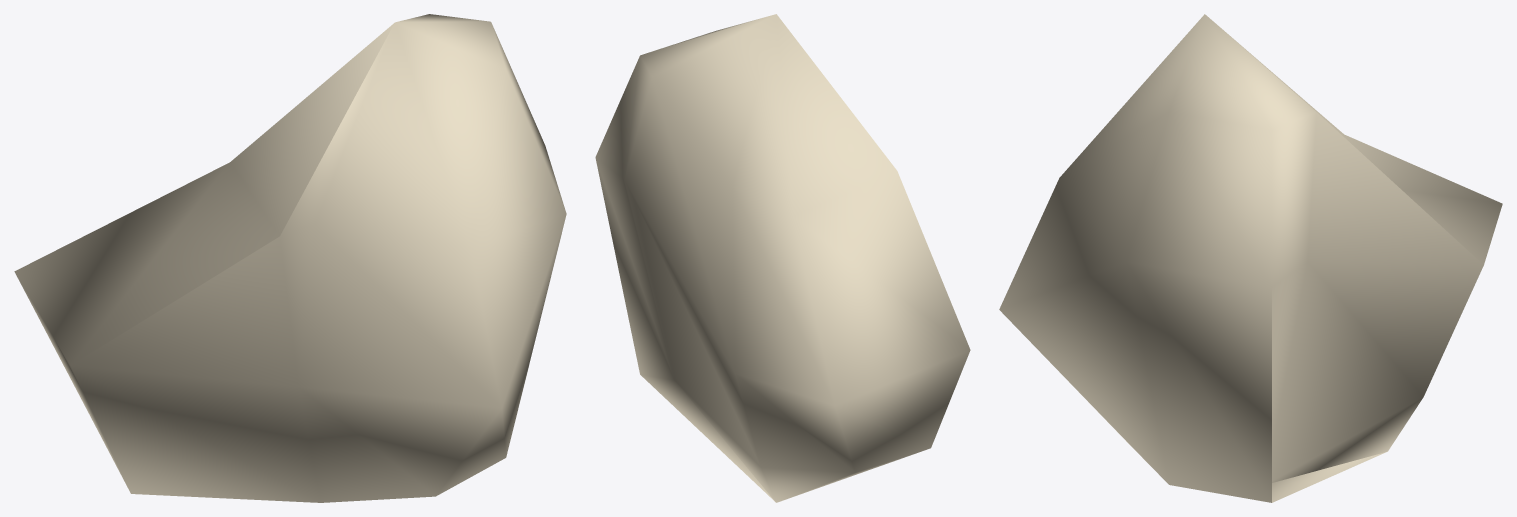
Rendered from popcorn2.fbx.
The picture shows the model from 3 angles, left to right: view 1: azimuth 30°, elevation 25°; view 2: azimuth 150°, elevation 25°; view 3: azimuth 270°, elevation 25°; orthographic projection. The views are drawn at different scales.
Parts seen in each view (by area): view 1: Sphere_1; view 2: Sphere_1; view 3: Sphere_1.
Boxes of the visible parts, x1=… form: Sphere_1: x1=14, y1=14, x2=566, y2=502; Sphere_1: x1=595, y1=14, x2=970, y2=502; Sphere_1: x1=999, y1=14, x2=1502, y2=502.
Size of the model in its own units: 4.23 by 4.35 by 4.12.
